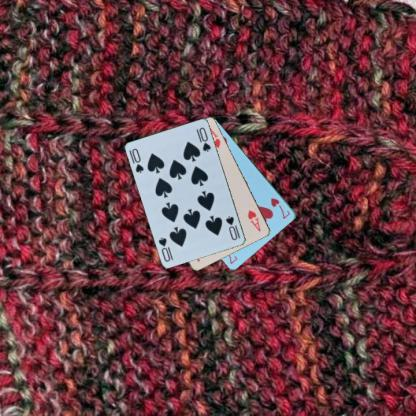10s: (223, 213, 239, 242), (129, 146, 145, 174)
7h: (268, 195, 292, 220)
Ah: (246, 207, 262, 233)
